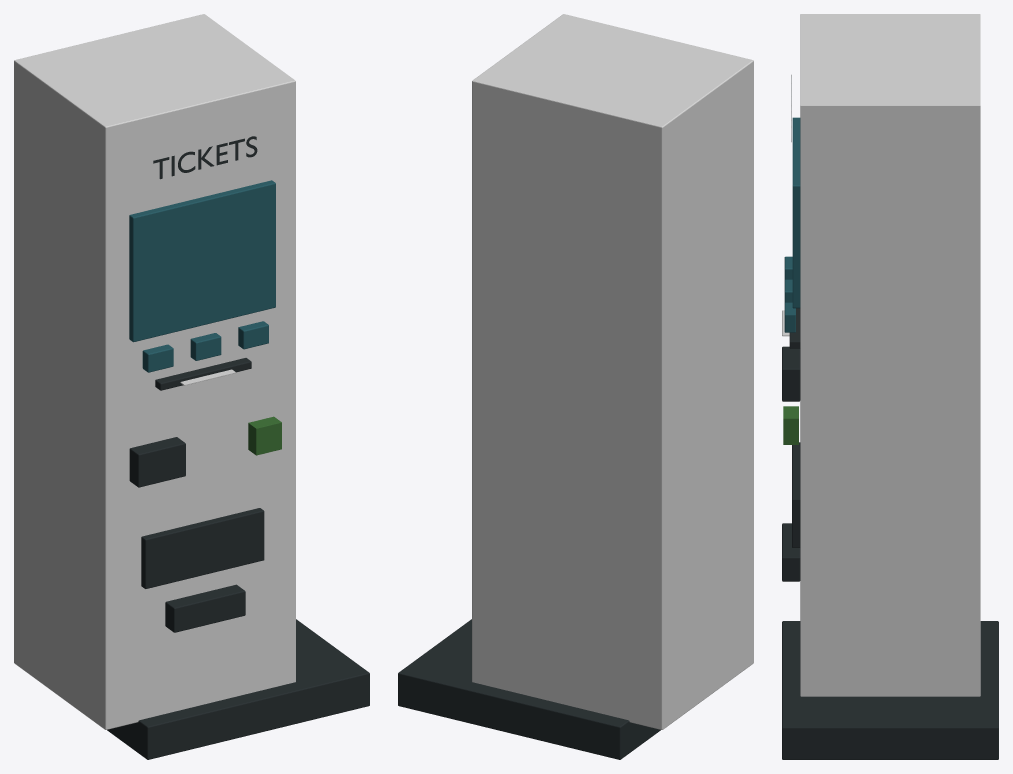
Rendered from source-edit.glb.
3 renders of one model, left to right at view 1: azimuth 30°, elevation 25°; view 2: azimuth 150°, elevation 25°; view 3: azimuth 270°, elevation 25°, orthographic.
Visible parts, largest first — view 1: Cabinet, Screen, Base, Receipt_Recess, Coin_Return, Card_Reader, Button, Slot, Editable_Label_TICKETS, Fare_Selection_Button, Fare_Selection_Button.001, Fare_Selection_Button.002; view 2: Cabinet, Base; view 3: Cabinet, Base, Screen, Card_Reader, Receipt_Recess, Coin_Return, Button.
Part boxes in pixels (bbox=[...]): Cabinet: bbox=[14, 14, 295, 729]; Screen: bbox=[129, 180, 275, 342]; Base: bbox=[107, 619, 369, 759]; Receipt_Recess: bbox=[141, 508, 264, 588]; Coin_Return: bbox=[165, 584, 245, 632]; Card_Reader: bbox=[129, 437, 185, 487]; Button: bbox=[248, 416, 281, 455]; Slot: bbox=[155, 358, 251, 390]; Editable_Label_TICKETS: bbox=[153, 136, 257, 179]; Fare_Selection_Button: bbox=[142, 344, 173, 372]; Fare_Selection_Button.001: bbox=[190, 333, 221, 360]; Fare_Selection_Button.002: bbox=[238, 321, 268, 349]; Cabinet: bbox=[472, 14, 753, 729]; Base: bbox=[398, 619, 660, 759]; Cabinet: bbox=[800, 14, 980, 696]; Base: bbox=[782, 621, 998, 759]; Screen: bbox=[792, 117, 800, 308]; Card_Reader: bbox=[782, 346, 800, 401]; Receipt_Recess: bbox=[792, 442, 800, 547]; Coin_Return: bbox=[782, 523, 800, 581]; Button: bbox=[783, 406, 798, 444].
Bounding box in the file's own units: 0.643 × 1.53 × 0.48.
